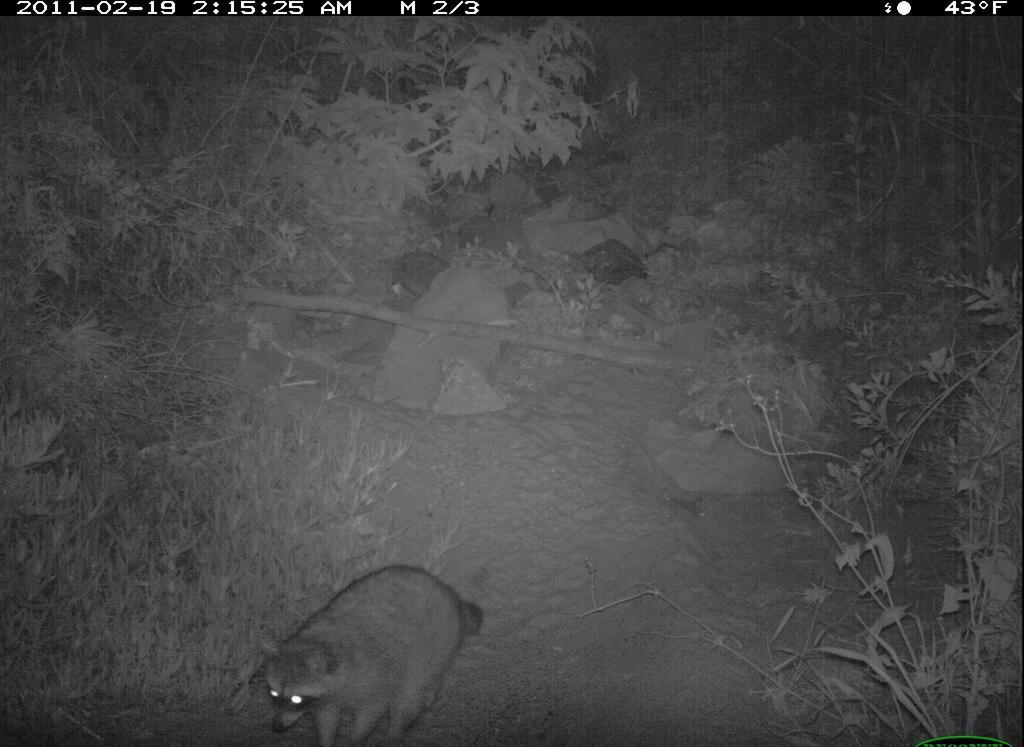raccoon: (258, 561, 491, 740)
